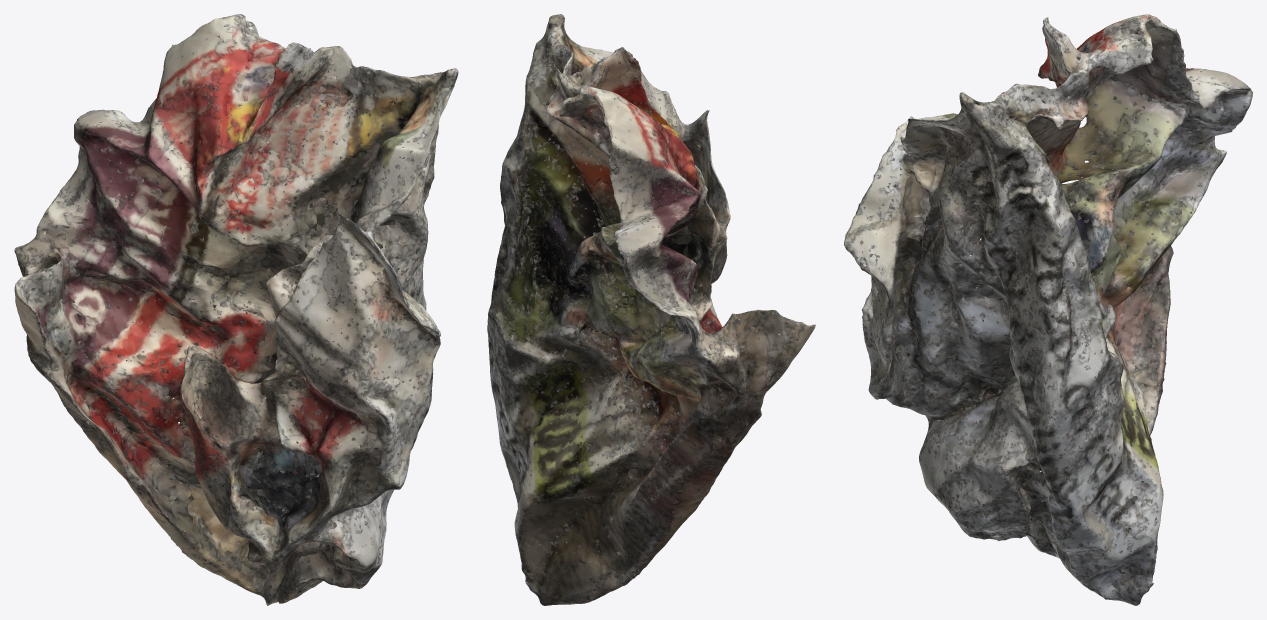
Rendered from nahled.glb.
The picture shows the model from 3 angles, left to right: view 1: azimuth 30°, elevation 25°; view 2: azimuth 150°, elevation 25°; view 3: azimuth 270°, elevation 25°; orthographic projection. The views are drawn at different scales.
Visible parts, largest first — view 1: COLMAP_TEXTURED_CORRECT; view 2: COLMAP_TEXTURED_CORRECT; view 3: COLMAP_TEXTURED_CORRECT.
Part boxes in pixels (x1=…): COLMAP_TEXTURED_CORRECT: x1=14, y1=14, x2=458, y2=605; COLMAP_TEXTURED_CORRECT: x1=487, y1=14, x2=815, y2=605; COLMAP_TEXTURED_CORRECT: x1=844, y1=14, x2=1252, y2=605.
Bounding box in the file's own units: 1.79 × 2.64 × 1.72.
1 material, 1 textured.
